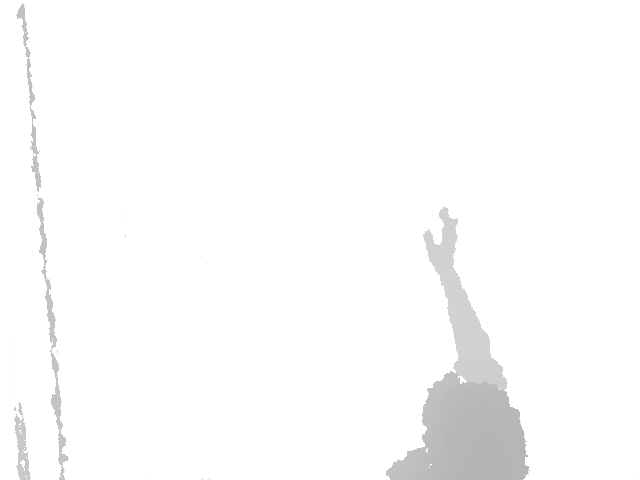hand: (422, 206, 460, 270)
head: (432, 383, 529, 480)
person: (385, 205, 529, 480)
